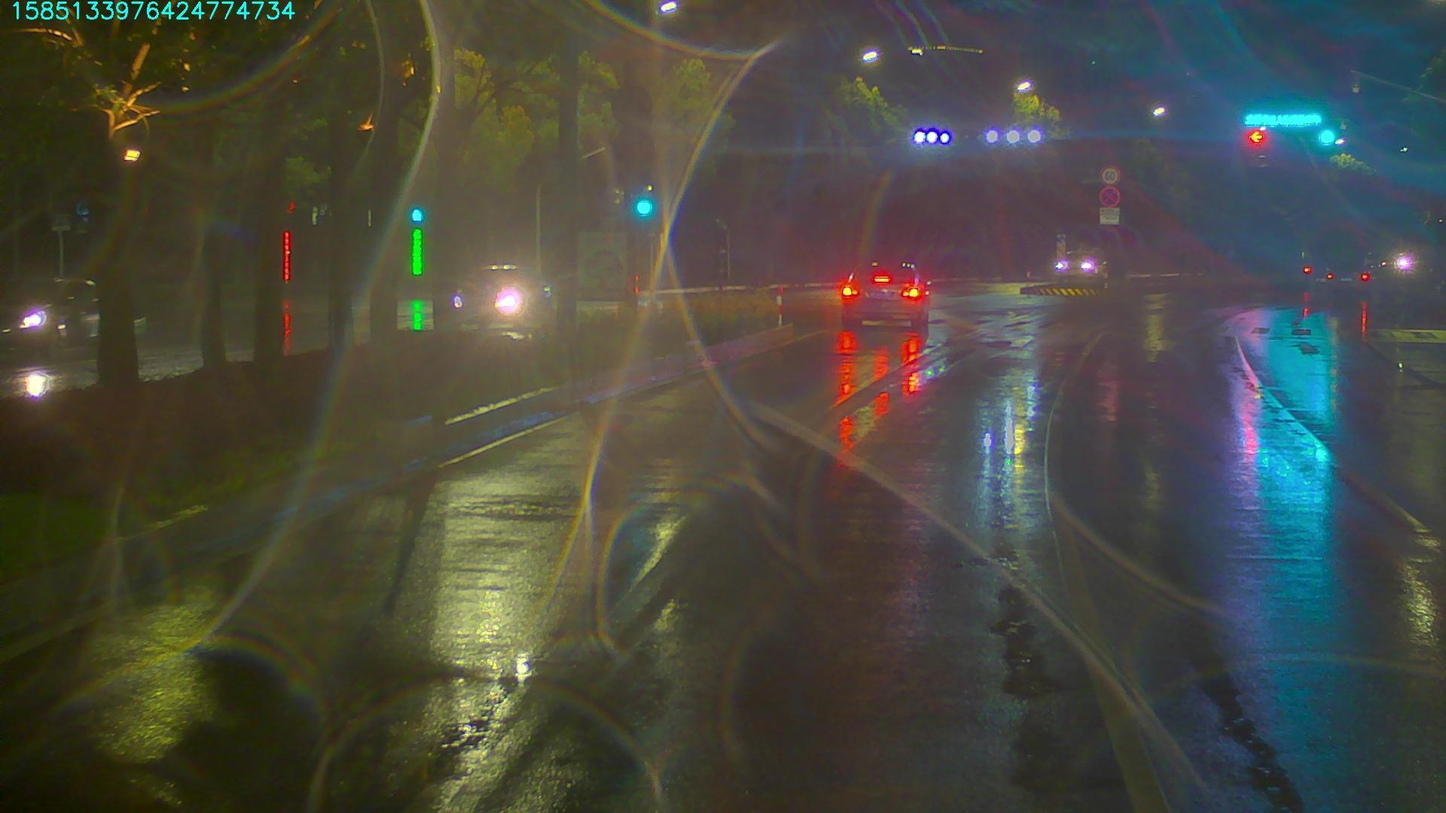green: (1312, 125, 1333, 142)
red: (1240, 129, 1267, 144)
wait_on: (1242, 109, 1317, 126)
